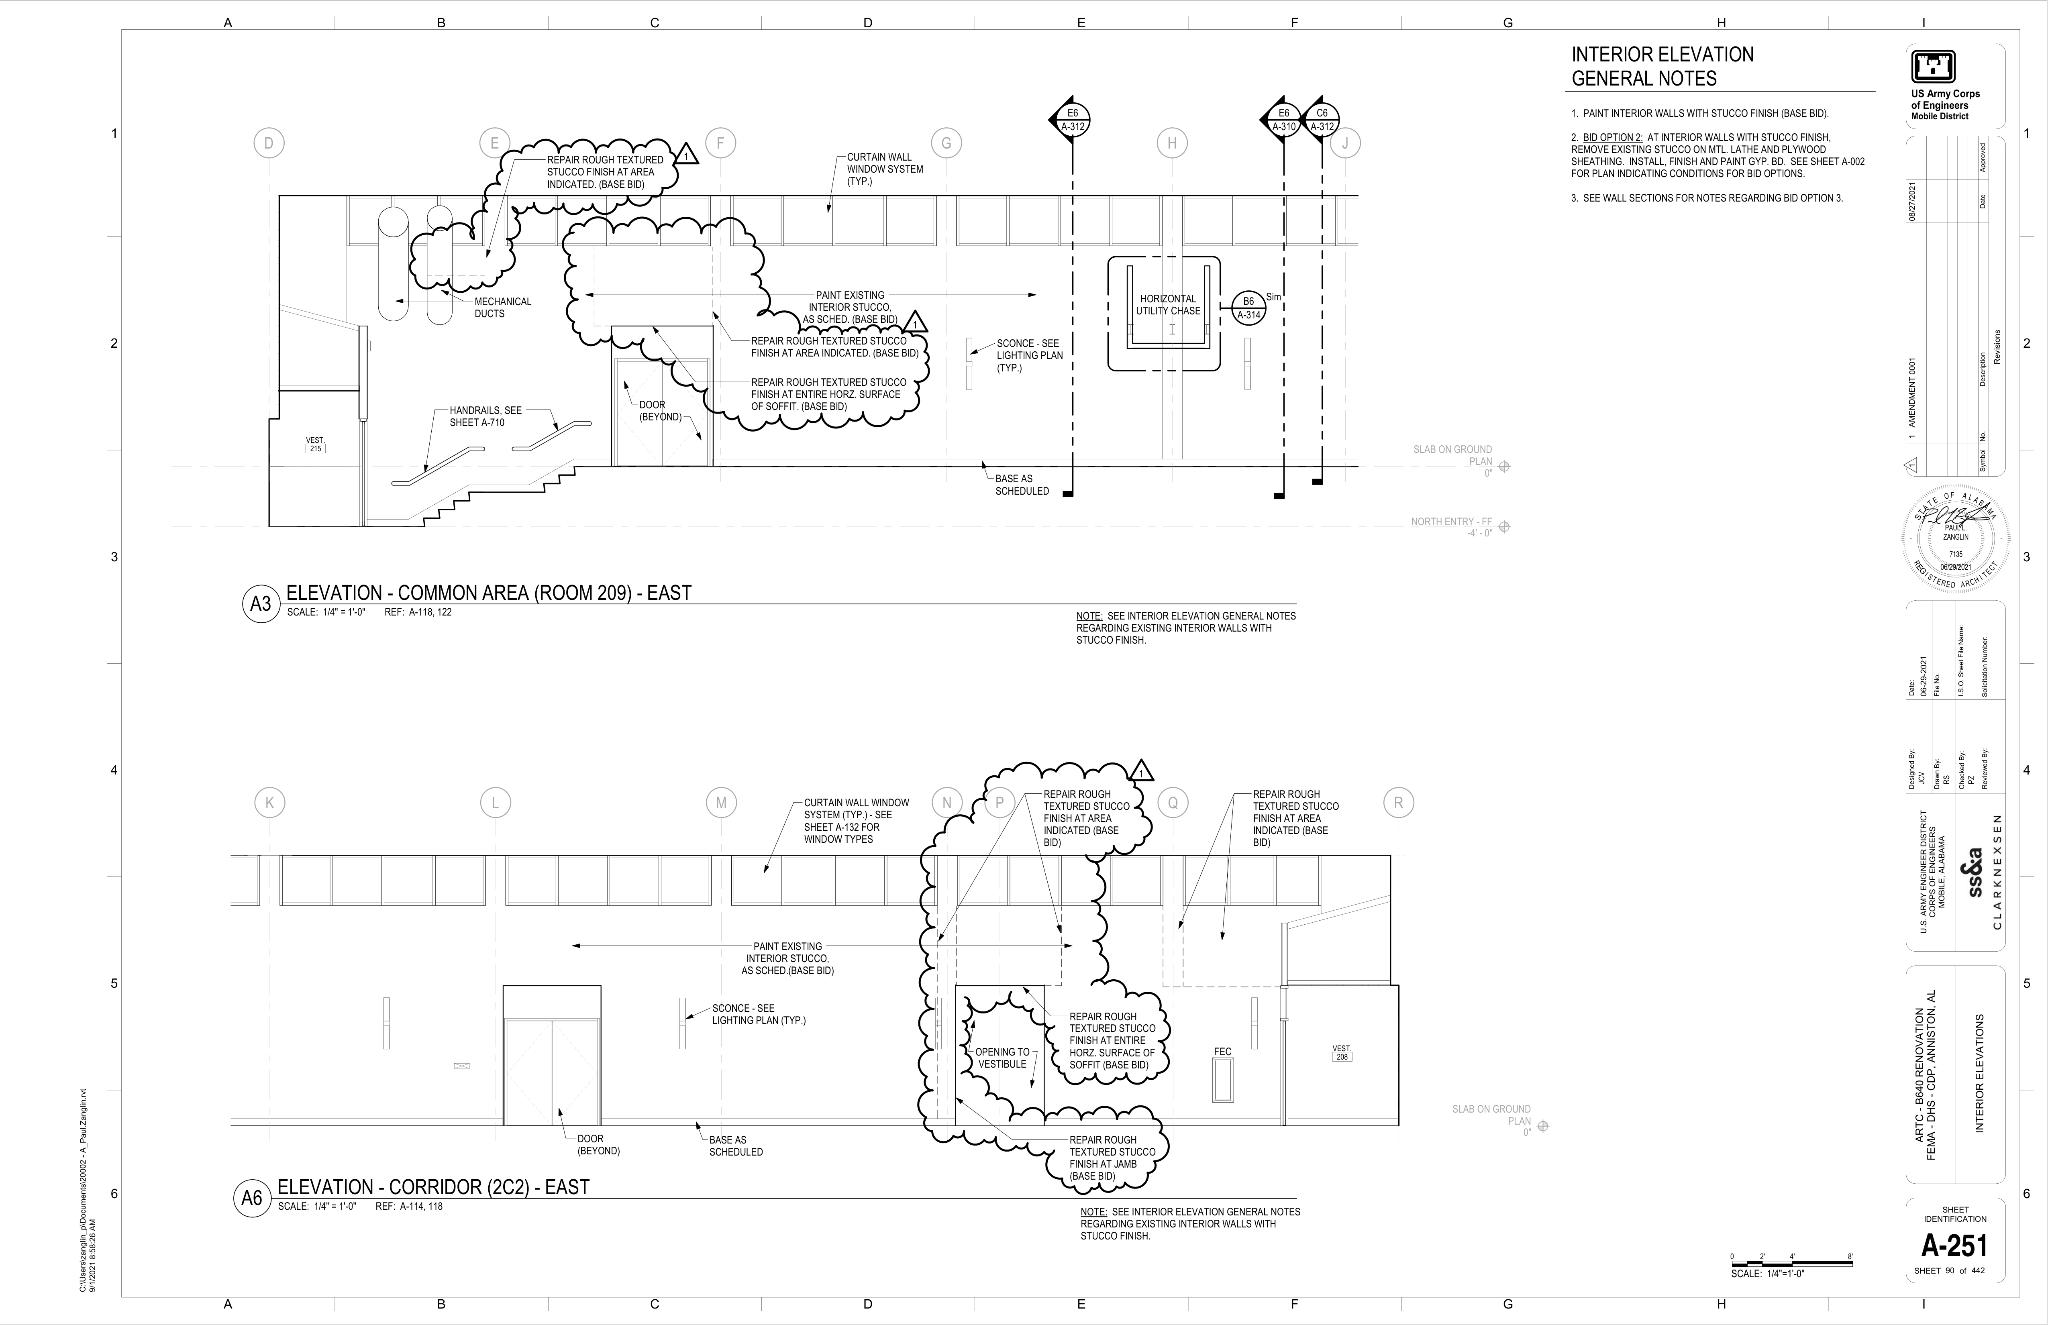detail: (1223, 290, 1267, 326)
elevation: (1048, 89, 1096, 178), (1257, 94, 1303, 175), (1298, 93, 1342, 170)
title: (238, 579, 701, 626), (228, 1172, 597, 1221)
